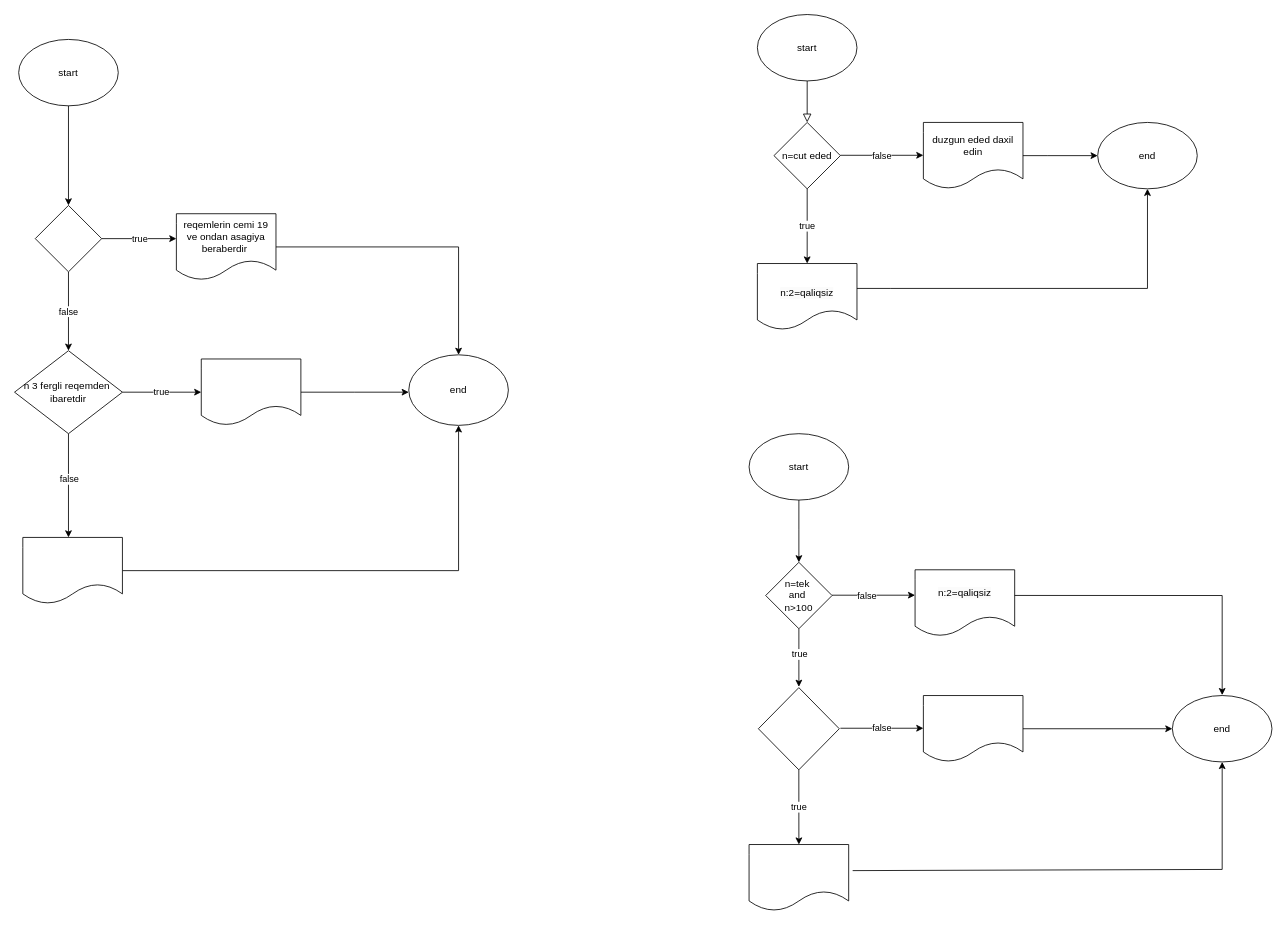
The diagram is 1287 pixels wide and 925 high, and some of its shapes have lost their labels. Here are the shapes that lost their labels. From the top down, the centre of each, then its label:
At pixel 68 238: "n=ikireqemli".
At pixel 250 391: "reqemlerin cemi 3-27 beraberdir".
At pixel 72 570: "reqemlerin cemi 1-27 beraber ola biler".
At pixel 798 728: "ededin son reqemi 1,3,5 ,7,9 idi".
At pixel 973 728: "duzgun rerqemi yazin".
At pixel 798 877: "duzgun reqemi yazin".
